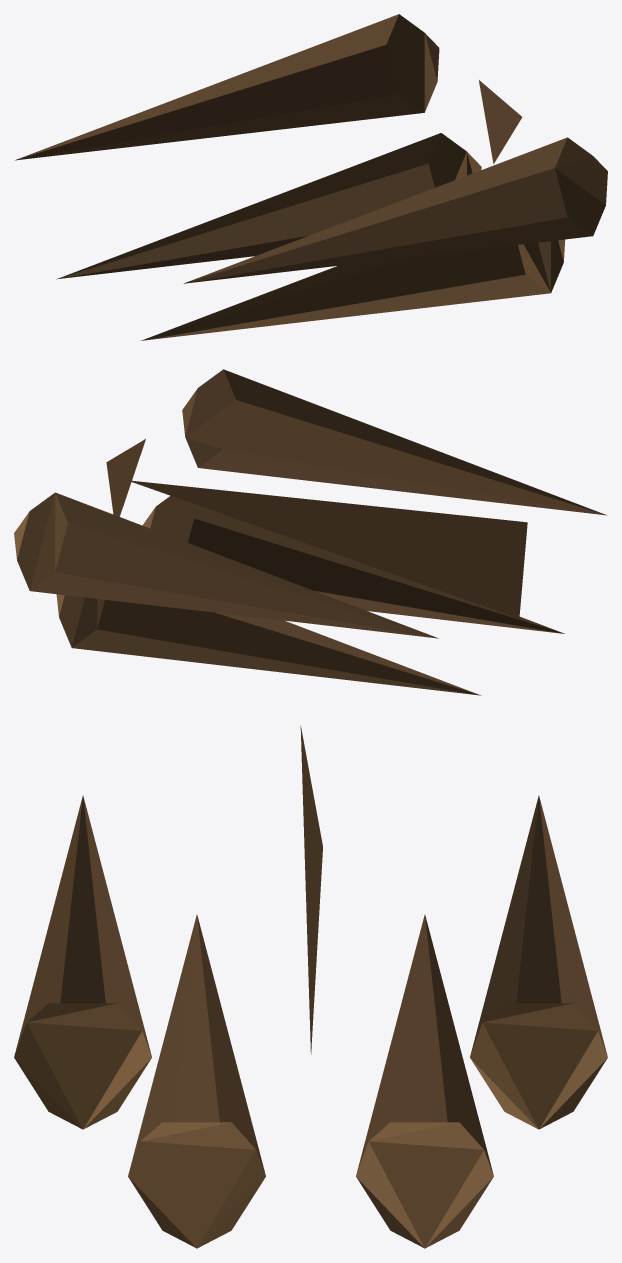
Rendered from log_pile_lod2.glb.
3 renders of one model, top to bottom at view 1: azimuth 30°, elevation 25°; view 2: azimuth 150°, elevation 25°; view 3: azimuth 270°, elevation 25°, orthographic. The views are drawn at different scales.
Parts seen in each view (by area): view 1: log_pile_lod2; view 2: log_pile_lod2; view 3: log_pile_lod2.
Part boxes in pixels (<box>): log_pile_lod2: <box>15,14,607,340</box>; log_pile_lod2: <box>14,369,606,695</box>; log_pile_lod2: <box>14,725,607,1248</box>.
Size of the model in its own units: 1.83 by 0.8217 by 1.72.
